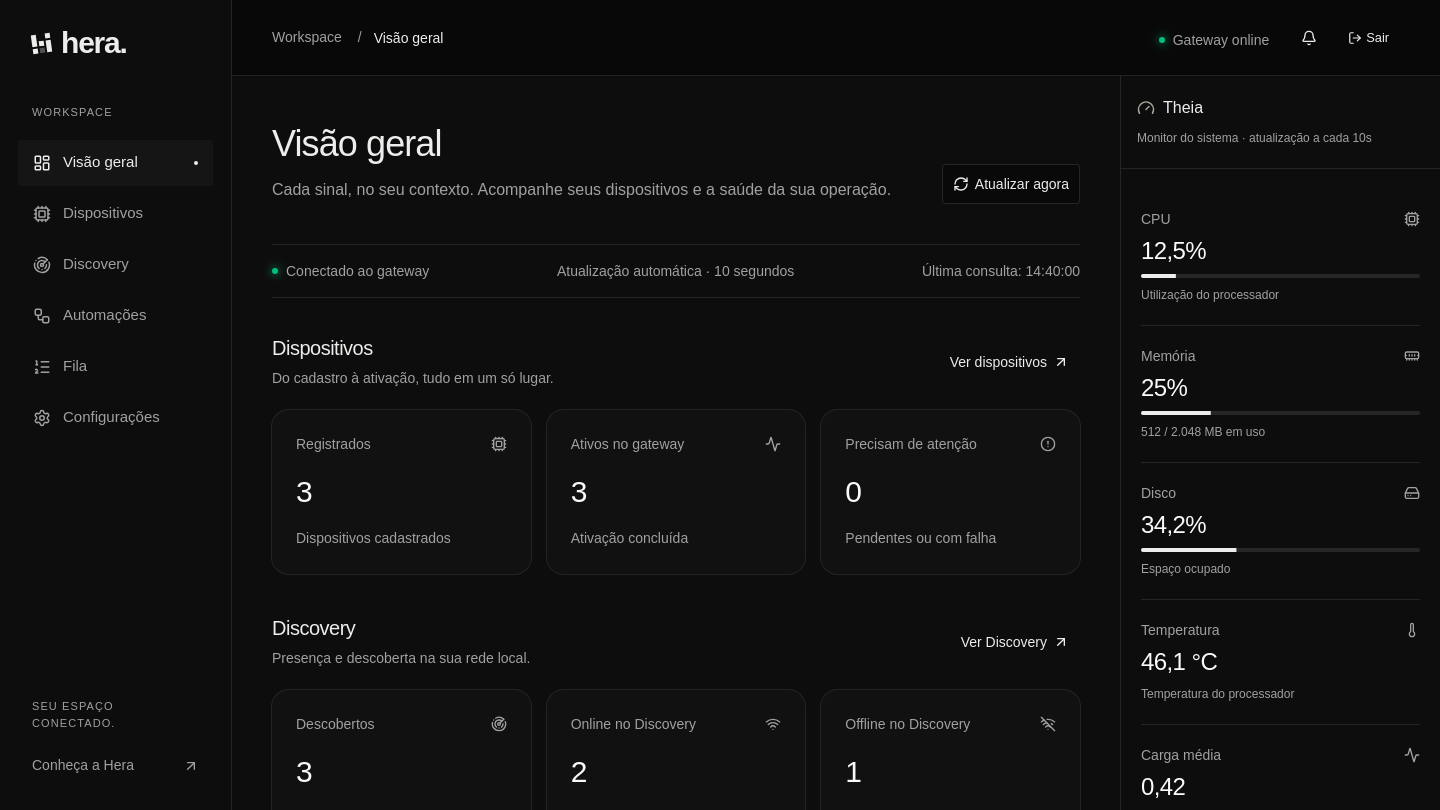
retains the last counters but marks API unavailable after a refresh failure
This screenshot has width=1440, height=810.
Check: the text "Gateway online" is shown, box [1159,30,1269,50]
What coordinates should you click on to do the following:
click the button "Atualizar agora"
I would click on:
 (1011, 184)
Its box is [942,164,1080,204].
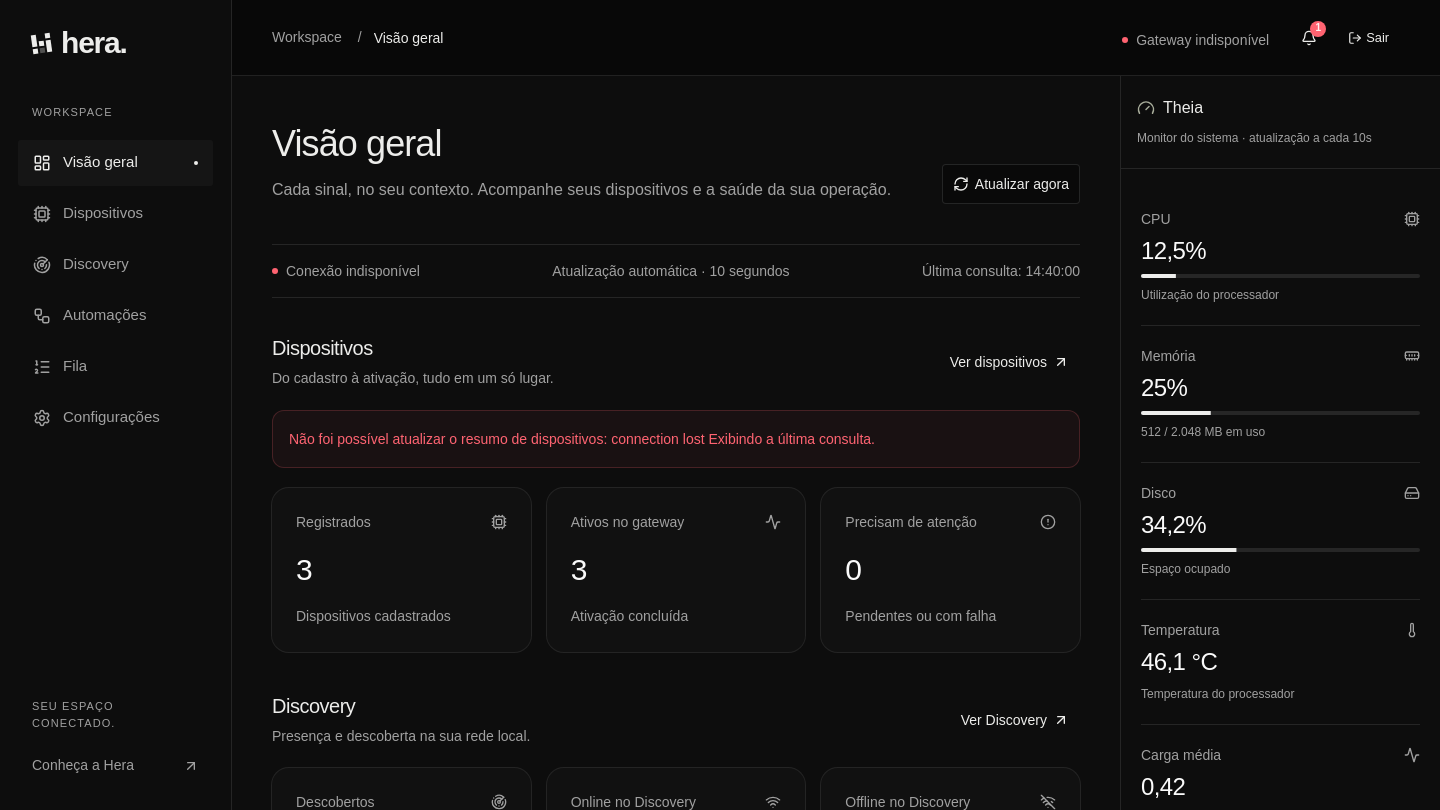
Check: the text "Gateway indisponível" is shown, box [1122,30,1269,50]
